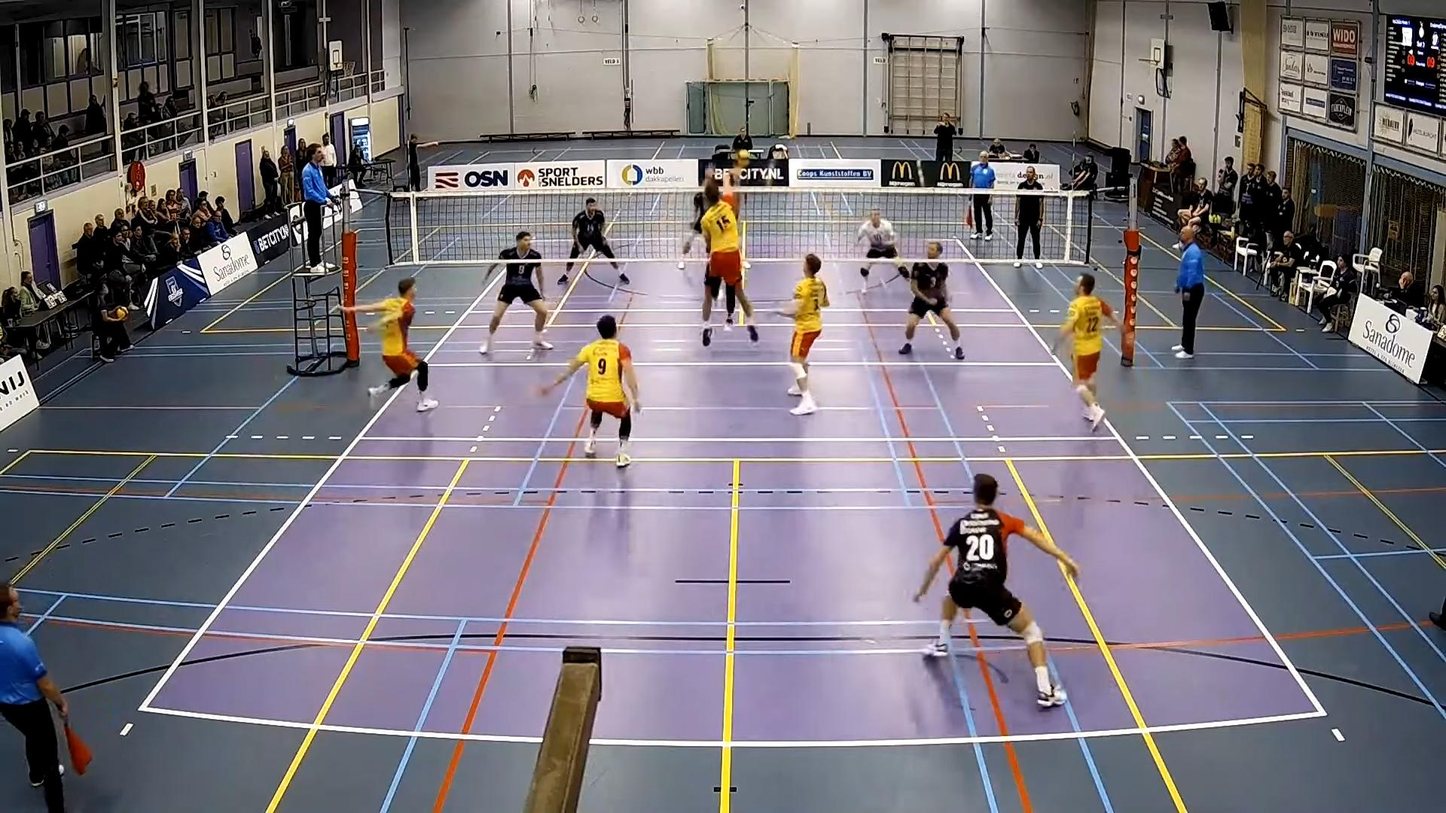attacco: (676, 163, 759, 337)
